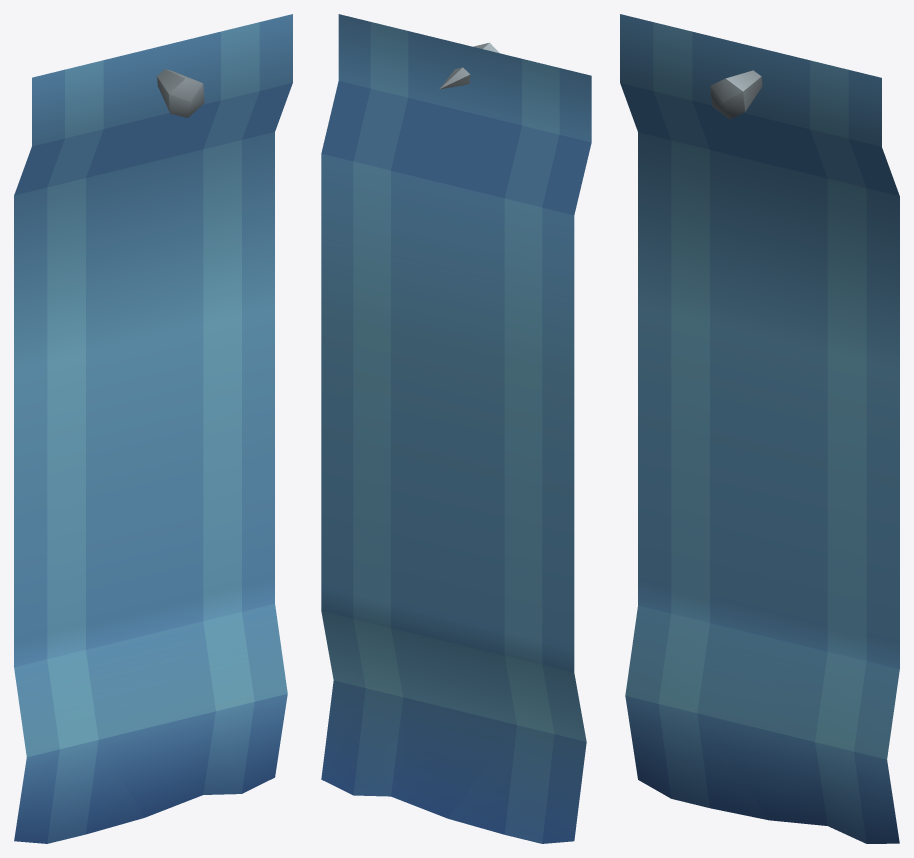
File: banner_thin_blue.gltf
3 views of the same model, side by side, from view 1: azimuth 30°, elevation 25°; view 2: azimuth 150°, elevation 25°; view 3: azimuth 330°, elevation 25° (orthographic). The views are drawn at different scales.
Visible parts, largest first — view 1: banner_thin_blue; view 2: banner_thin_blue; view 3: banner_thin_blue.
Part boxes in pixels (box(x1,y1,x2,y2)): banner_thin_blue: box(14, 14, 292, 843); banner_thin_blue: box(321, 14, 591, 843); banner_thin_blue: box(620, 14, 899, 843).
Bounding box in the file's own units: 1.1 × 3.17 × 0.3623.
1 material, 1 textured.
